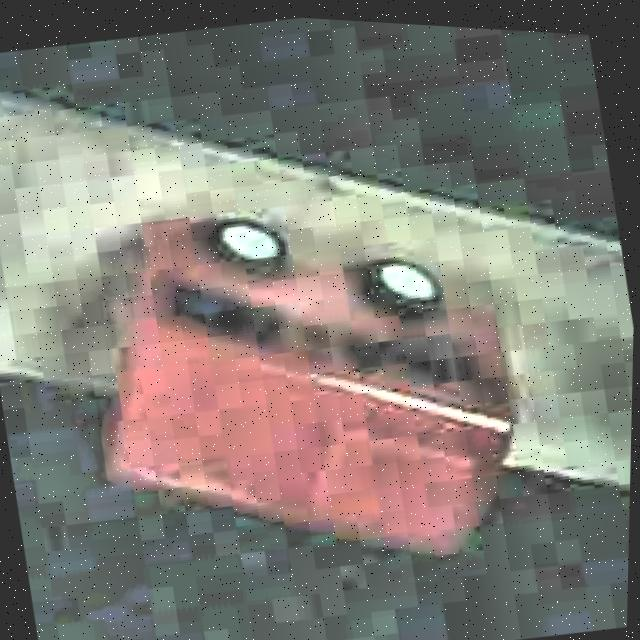bus: (57, 154, 544, 615)
